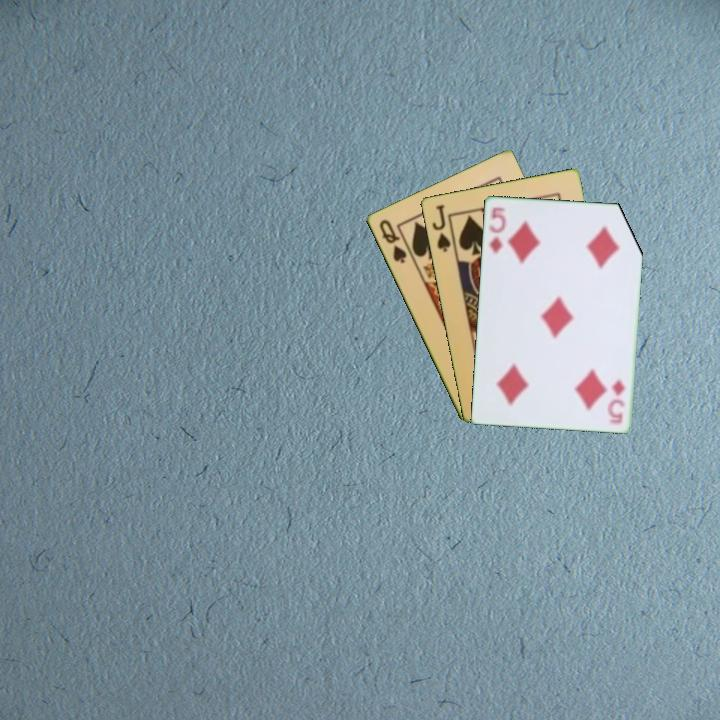5d: (485, 203, 508, 256), (606, 376, 628, 426)
Js: (428, 201, 453, 254)
Qs: (375, 216, 409, 266)
